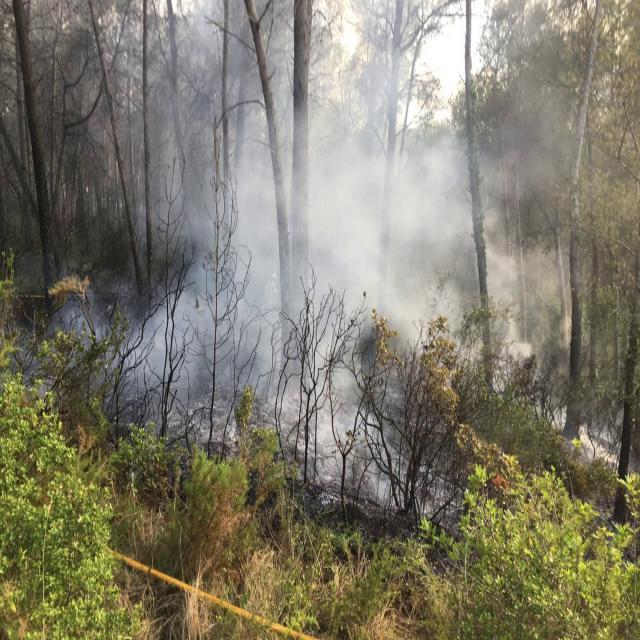Smoke: (132, 2, 570, 414)
